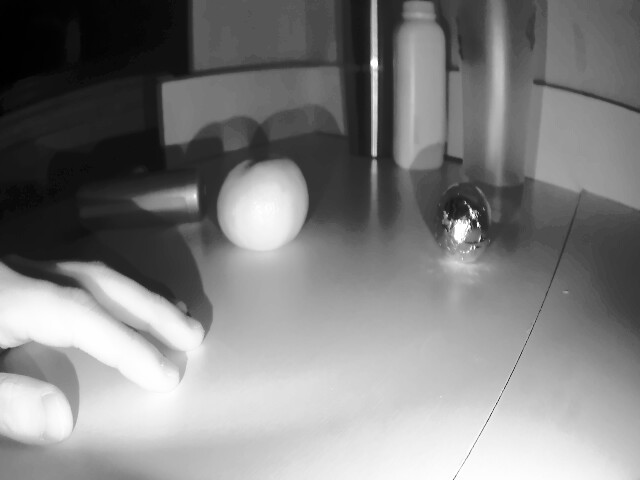silver: (438, 182, 502, 270)
